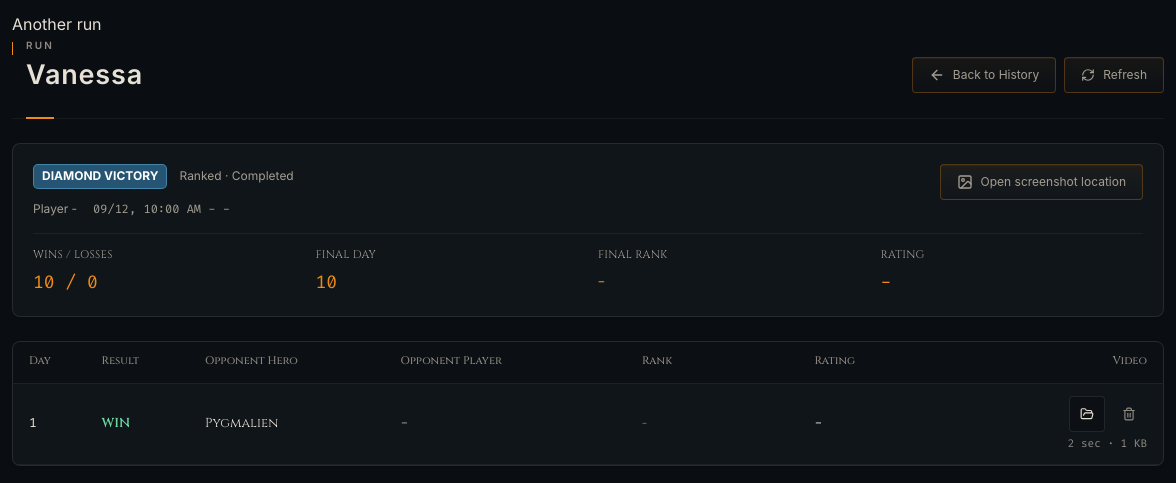
Test case: Run Detail workflow binding › renders new detail after navigation even without a keyed route remount
Check: the heading "Vanessa" is shown, box x1=26 y1=59 x2=143 y2=91
Click the link to "/history/run-2" at [57, 24], box x1=12 y1=14 x2=102 y2=34
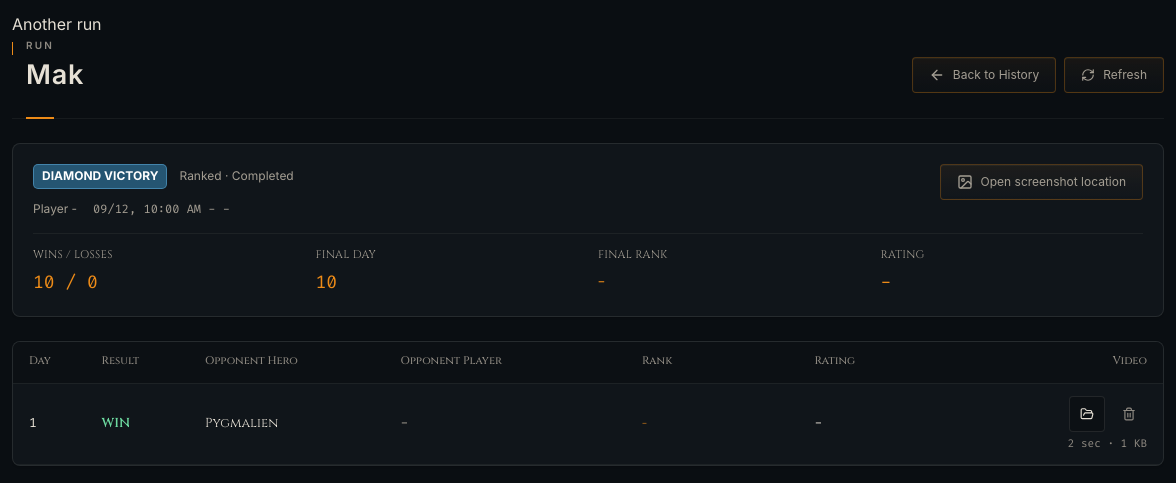
Check: the heading "Mak" is shown, box x1=26 y1=59 x2=84 y2=91
